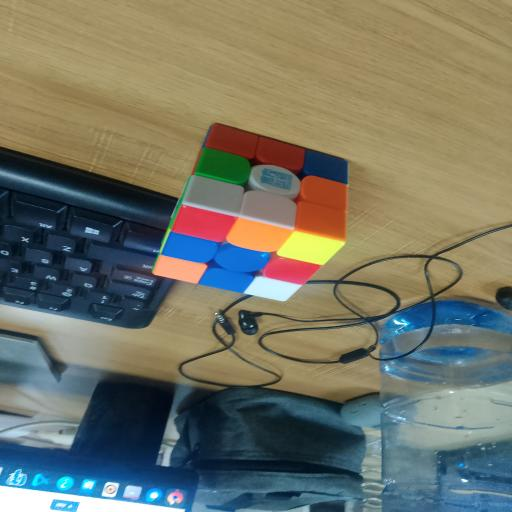cubic: (148, 118, 359, 304)
